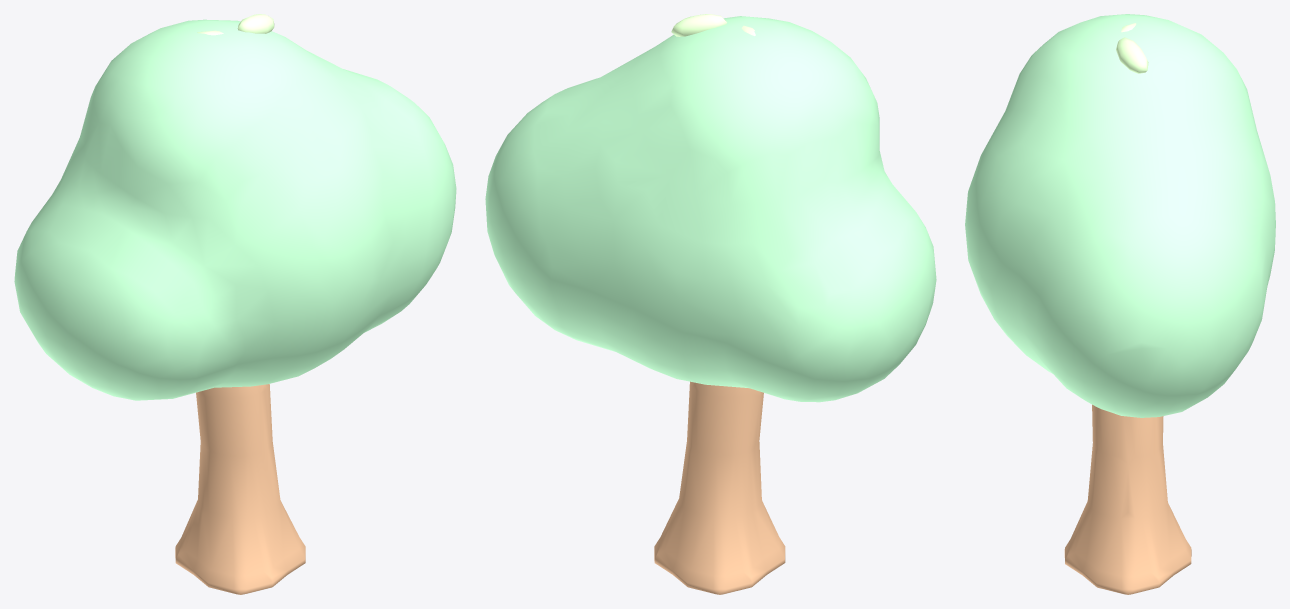
File: tree-round.glb
The picture shows the model from 3 angles, left to right: view 1: azimuth 30°, elevation 25°; view 2: azimuth 150°, elevation 25°; view 3: azimuth 270°, elevation 25°; orthographic projection. The views are drawn at different scales.
Visible parts, largest first — view 1: tree-round; view 2: tree-round; view 3: tree-round.
Boxes of the visible parts, <box> form: tree-round: <box>14,14,456,594</box>; tree-round: <box>485,14,936,594</box>; tree-round: <box>965,14,1275,594</box>.
Size of the model in its own units: 3.62 by 4.59 by 2.44.
